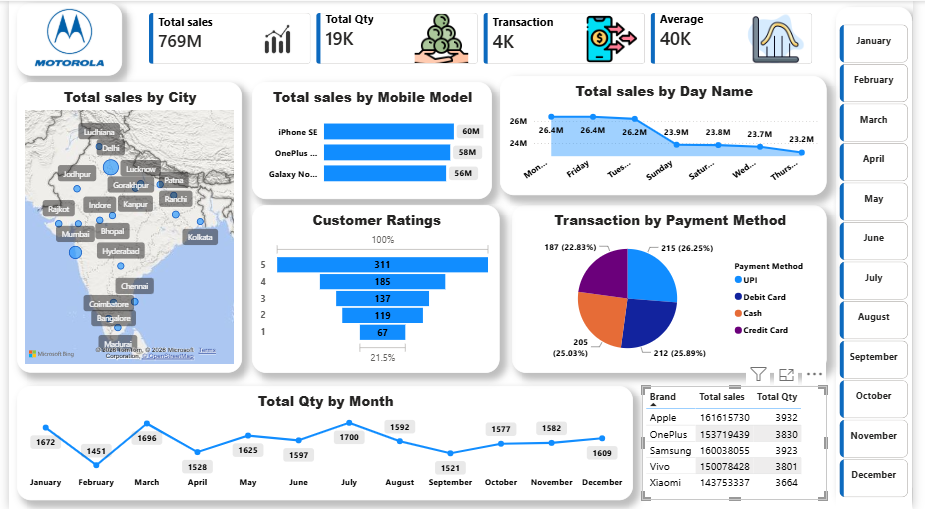

What the dashboard file says about the page in this screenshot:
{"tool":"powerbi","page":{"name":"Page 1","canvas":[1280,720],"ordinal":0},"visuals":[{"type":"shape","box":[11.3,2.8,148.8,103.5],"z":0},{"type":"image","box":[5.7,2.8,160.2,97.8],"z":1000},{"type":"shape","box":[1172.1,8.5,107.7,698.7],"z":2000},{"type":"advancedSlicerVisual","fields":{"Values":["Sales_Data.Date.Variation.Date Hierarchy.Month"]},"box":[1172.1,28.3,107.7,691.7],"z":3000},{"type":"cardVisual","fields":{"Data":["Sales_Data.Total sales","Sales_Data.Total Qty","Sales_Data.Transaction","Sales_Data.Average"]},"box":[181.4,0,978,106.3],"z":4000},{"type":"map","fields":{"Category":["Sales_Data.City"],"Size":["Sales_Data.Total sales"]},"box":[11.3,114.8,318.9,412.4],"z":5000},{"type":"lineChart","fields":{"Y":["Sales_Data.Total Qty"],"Category":["Sales_Data.Date.Variation.Date Hierarchy.Month","Sales_Data.Date.Variation.Date Hierarchy.Day"]},"box":[11.3,545.7,873.1,161.6],"z":6000},{"type":"barChart","fields":{"Category":["Sales_Data.Mobile Model"],"Y":["Sales_Data.Total sales"]},"box":[344.4,114.8,340.2,165.8],"z":7000},{"type":"pieChart","fields":{"Category":["Sales_Data.Payment Method"],"Y":["Sales_Data.Transaction"]},"box":[712.9,289.1,446.5,238.1],"z":8000},{"type":"funnel","title":"Customer Ratings","fields":{"Category":["Sales_Data.Customer Ratings"],"Y":["CountNonNull(Sales_Data.Customer Ratings)"]},"box":[344.4,289.1,351.5,238.1],"z":9000},{"type":"areaChart","title":"Total sales by Day Name","fields":{"Category":["Sales_Data.Day Name"],"Y":["Sales_Data.Total sales"]},"box":[695.9,106.3,463.5,168.7],"z":10000},{"type":"tableEx","fields":{"Values":["Sales_Data.Brand","Sales_Data.Total sales","Sales_Data.Total Qty"]},"box":[897.2,545.7,262.2,161.6],"z":11000}]}

Visuals, with their boxes in screenshot pixels (x1, y1, x2, y2), scaled from the page's 1280x720 canvas onto the 925x509 screenshot:
shape: [8,2,116,75]
image: [4,2,120,71]
shape: [847,6,924,500]
advancedSlicerVisual - Sales_Data.Date.Variation.Date Hierarchy.Month: [847,20,924,508]
cardVisual - Sales_Data.Total sales x Sales_Data.Total Qty: [131,0,838,75]
map - Sales_Data.City x Sales_Data.Total sales: [8,81,239,373]
lineChart - Sales_Data.Total Qty x Sales_Data.Date.Variation.Date Hierarchy.Month: [8,386,639,500]
barChart - Sales_Data.Mobile Model x Sales_Data.Total sales: [249,81,495,198]
pieChart - Sales_Data.Payment Method x Sales_Data.Transaction: [515,204,838,373]
"Customer Ratings" funnel: [249,204,503,373]
"Total sales by Day Name" areaChart: [503,75,838,194]
tableEx - Sales_Data.Brand x Sales_Data.Total sales: [648,386,838,500]
